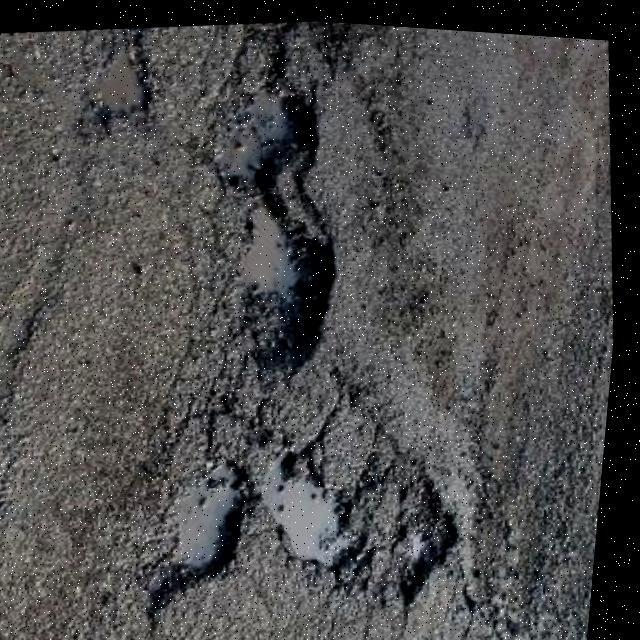pothole: (188, 68, 369, 378), (136, 445, 284, 619), (254, 433, 394, 579), (392, 466, 482, 600), (83, 36, 164, 119)
